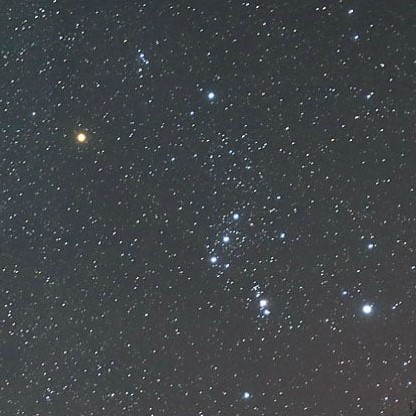Orion: (361, 294, 385, 326), (71, 126, 95, 152), (203, 249, 225, 277), (233, 380, 254, 405), (211, 222, 231, 248), (224, 203, 245, 224), (201, 86, 221, 103)
